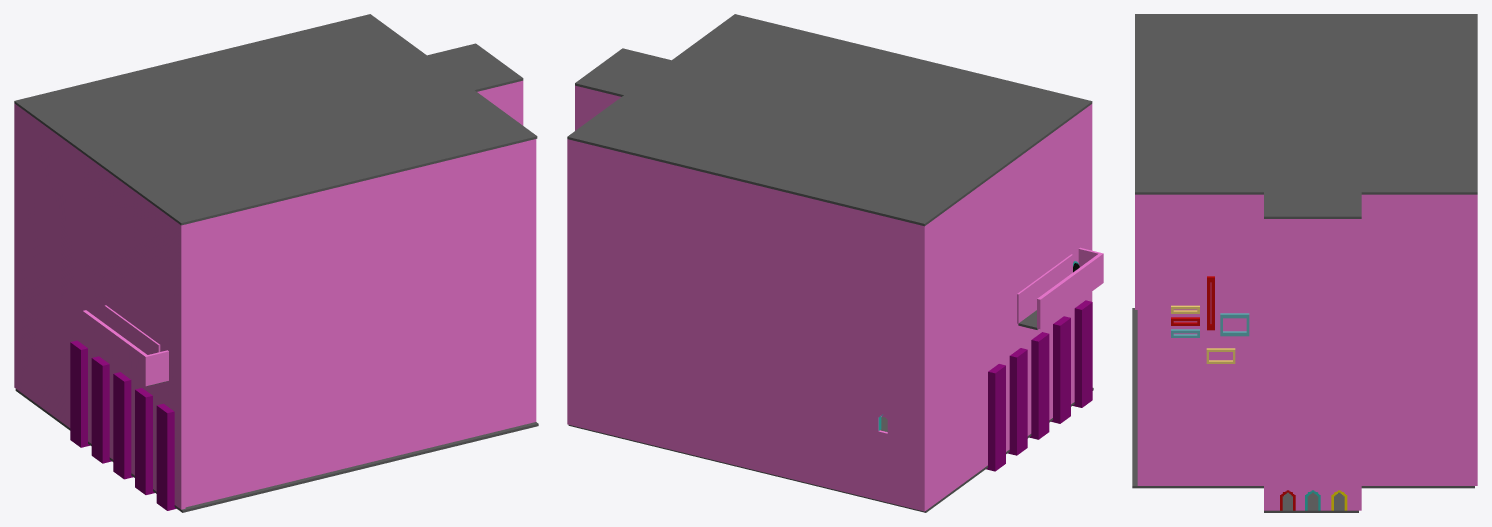
The model's file is Staircase.glb.
3 views of the same model, side by side, from view 1: azimuth 30°, elevation 25°; view 2: azimuth 150°, elevation 25°; view 3: azimuth 270°, elevation 25° (orthographic). The views are drawn at different scales.
Visible parts, largest first — view 1: PinkWalls_24, Object_20, Cube.001_37, Cube_36, Floor_14; view 2: PinkWalls_24, Object_20, Cube.001_37, Cube_36, Floor_14; view 3: PinkWalls_24, Object_20, Floor_14, Blue.005_44, Red.003_45, Yellow.003_46.
Part boxes in pixels (x1,y1,x2,y2): PinkWalls_24: [14, 80, 536, 509]; Object_20: [14, 14, 537, 225]; Cube.001_37: [70, 340, 176, 510]; Cube_36: [82, 305, 168, 386]; Floor_14: [15, 389, 538, 512]; PinkWalls_24: [567, 85, 1092, 511]; Object_20: [567, 14, 1092, 226]; Cube.001_37: [986, 300, 1092, 471]; Cube_36: [1017, 247, 1103, 329]; Floor_14: [568, 388, 1093, 512]; PinkWalls_24: [1135, 194, 1477, 510]; Object_20: [1135, 14, 1477, 218]; Floor_14: [1132, 308, 1474, 512]; Blue.005_44: [1171, 313, 1249, 337]; Red.003_45: [1171, 276, 1214, 330]; Yellow.003_46: [1171, 305, 1235, 363].
Bounding box in the file's own units: 45.83 × 30 × 31.19.
